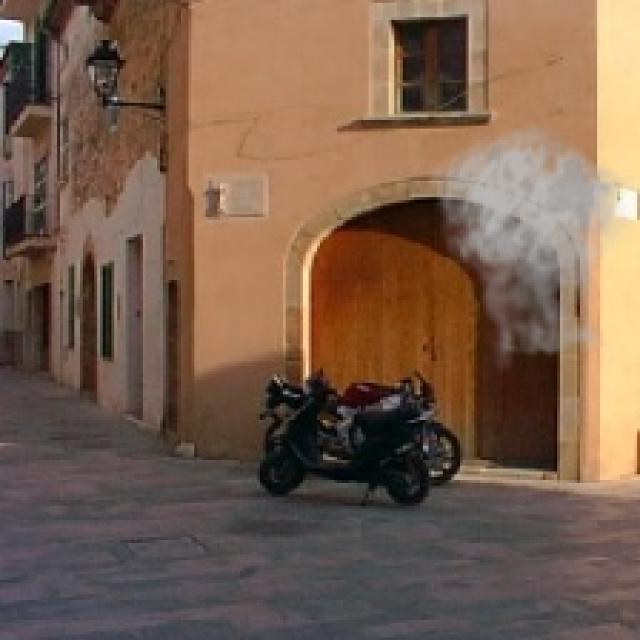smoke: (429, 123, 637, 377)
